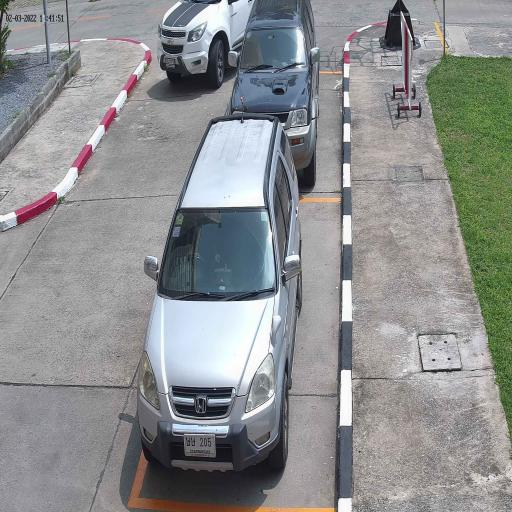car: (137, 113, 303, 476), (230, 0, 320, 188), (157, 0, 256, 90)
